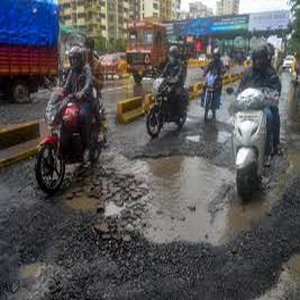pothole: (114, 149, 241, 251)
